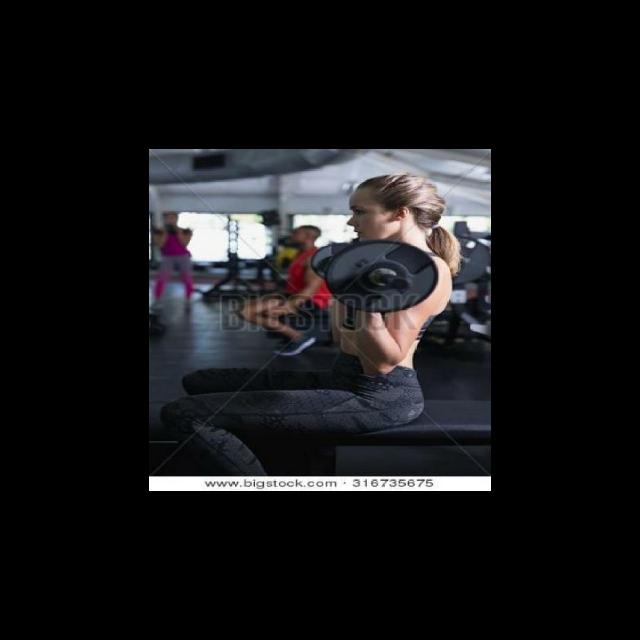barbell: (322, 236, 441, 318)
